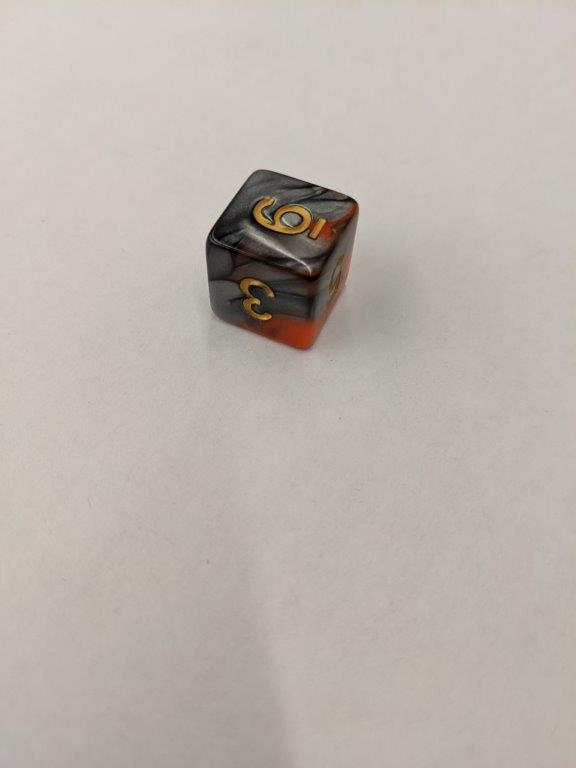d6-6: (208, 167, 361, 346)
